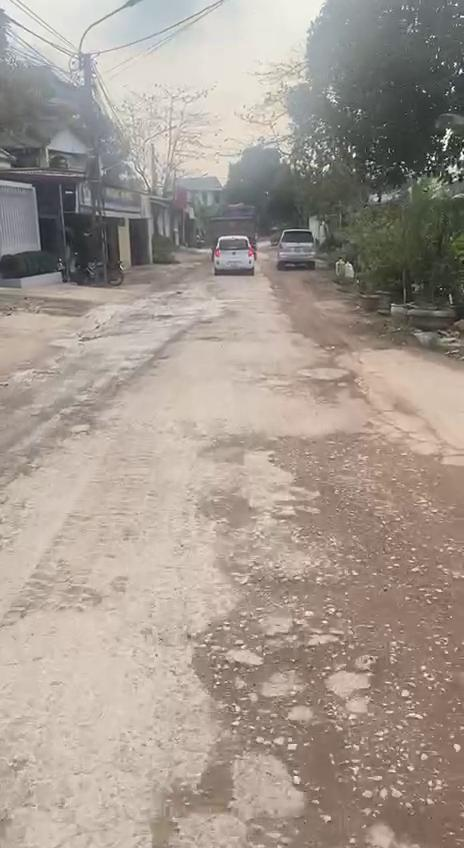pothole: (156, 704, 386, 848), (189, 592, 372, 728), (196, 487, 254, 536)
